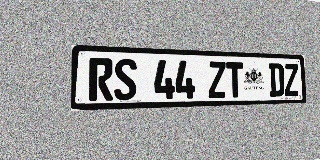4: (154, 60, 175, 99), (175, 60, 195, 99)
D: (269, 63, 284, 97)
R: (89, 58, 113, 101)
S: (114, 58, 137, 100)
T: (226, 62, 244, 98)
Z: (208, 61, 226, 98), (284, 64, 299, 96)
